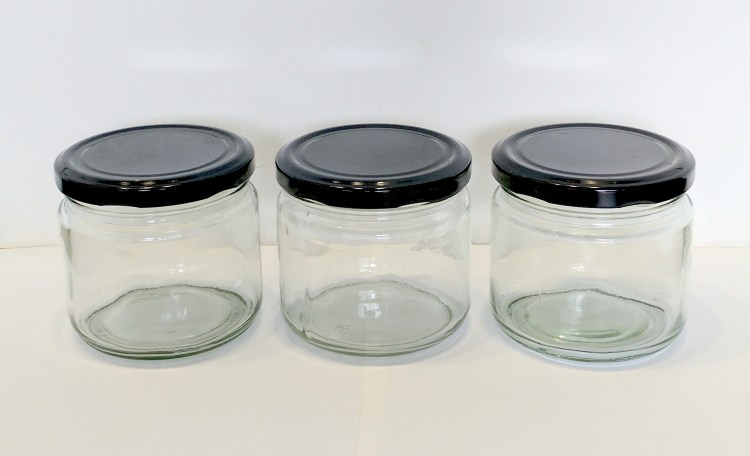glass_bottle: (49, 121, 269, 365), (487, 119, 699, 364), (265, 120, 475, 359)
